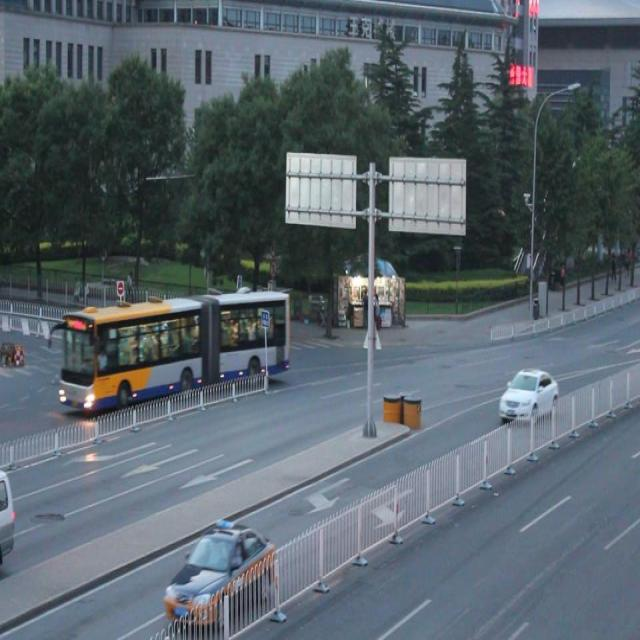car: (165, 525, 277, 625), (498, 365, 558, 426), (150, 299, 211, 354)
van: (60, 294, 291, 402)
